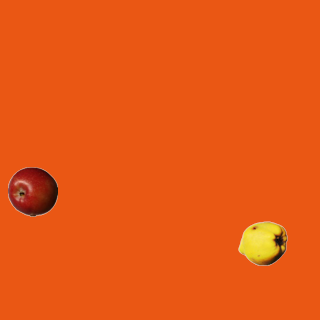Apple Braeburn: (7, 166, 57, 216)
Quince: (237, 218, 287, 268)
